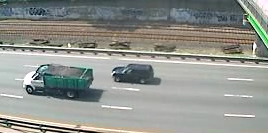car: (19, 62, 96, 101), (111, 63, 156, 86)
